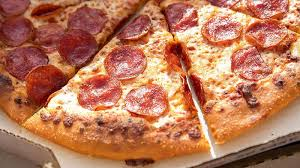pizza: (26, 4, 210, 155)
